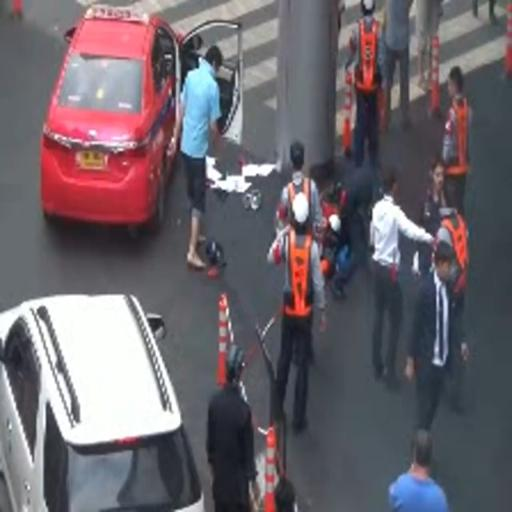nao-violencia: (364, 153, 478, 297)
